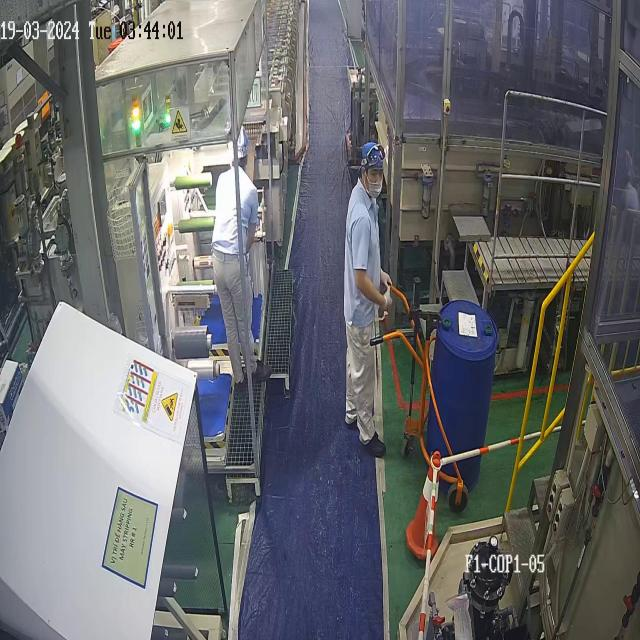Person: (210, 125, 272, 385), (343, 141, 393, 458)
